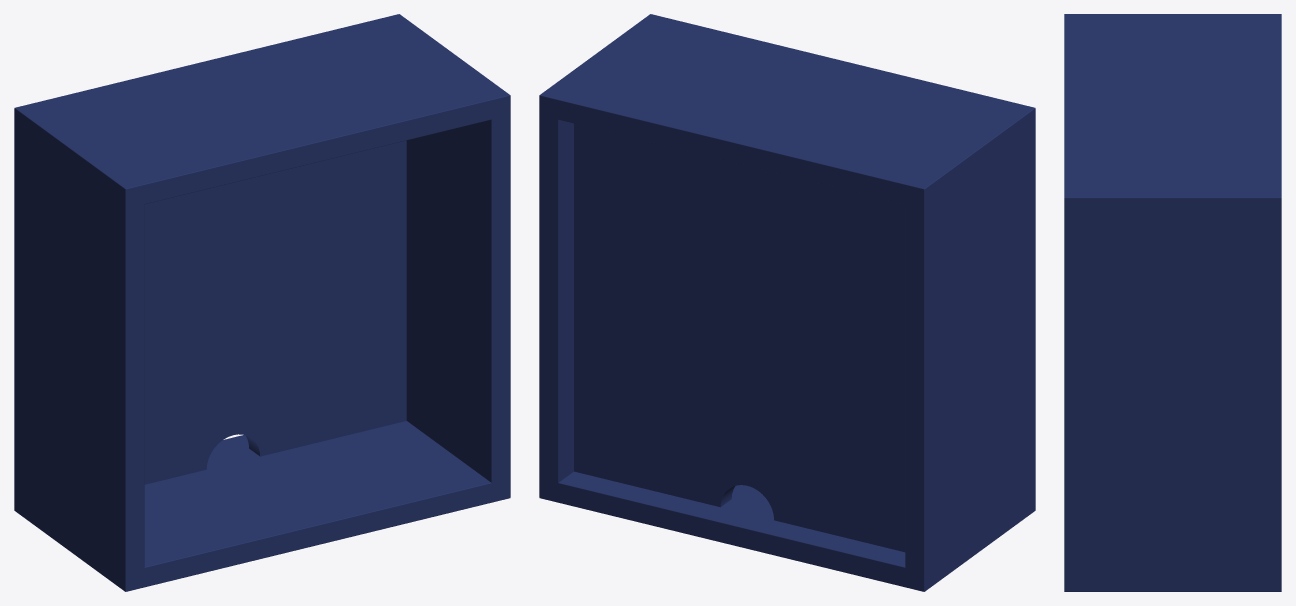
Rendered from MODH_1X1_A_B_AP_AF.glb.
The picture shows the model from 3 angles, left to right: view 1: azimuth 30°, elevation 25°; view 2: azimuth 150°, elevation 25°; view 3: azimuth 270°, elevation 25°; orthographic projection. The views are drawn at different scales.
Size of the model in its own units: 360 by 360 by 180.
